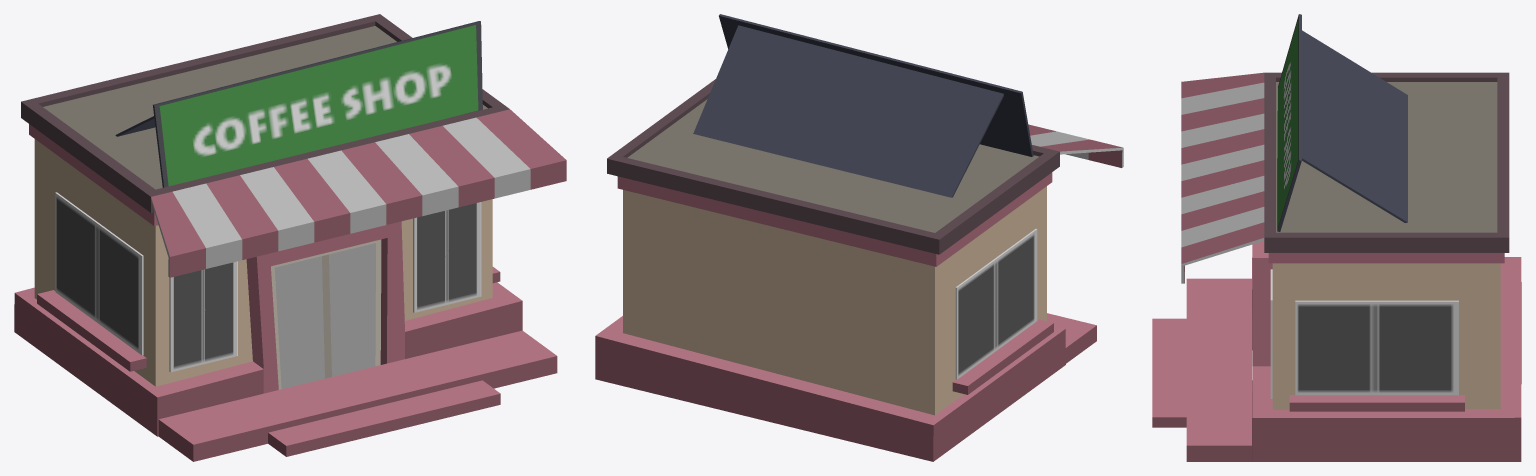
Rendered from coffeeShop01_color02.fbx.
3 renders of one model, left to right at view 1: azimuth 30°, elevation 25°; view 2: azimuth 150°, elevation 25°; view 3: azimuth 270°, elevation 25°, orthographic. The views are drawn at different scales.
Parts seen in each view (by area): view 1: coffeeShop01_color02; view 2: coffeeShop01_color02; view 3: coffeeShop01_color02.
Part boxes in pixels (x1=…): coffeeShop01_color02: x1=14, y1=14, x2=566, y2=461; coffeeShop01_color02: x1=595, y1=14, x2=1123, y2=461; coffeeShop01_color02: x1=1152, y1=14, x2=1521, y2=461.
Size of the model in its own units: 886 by 666 by 758.
